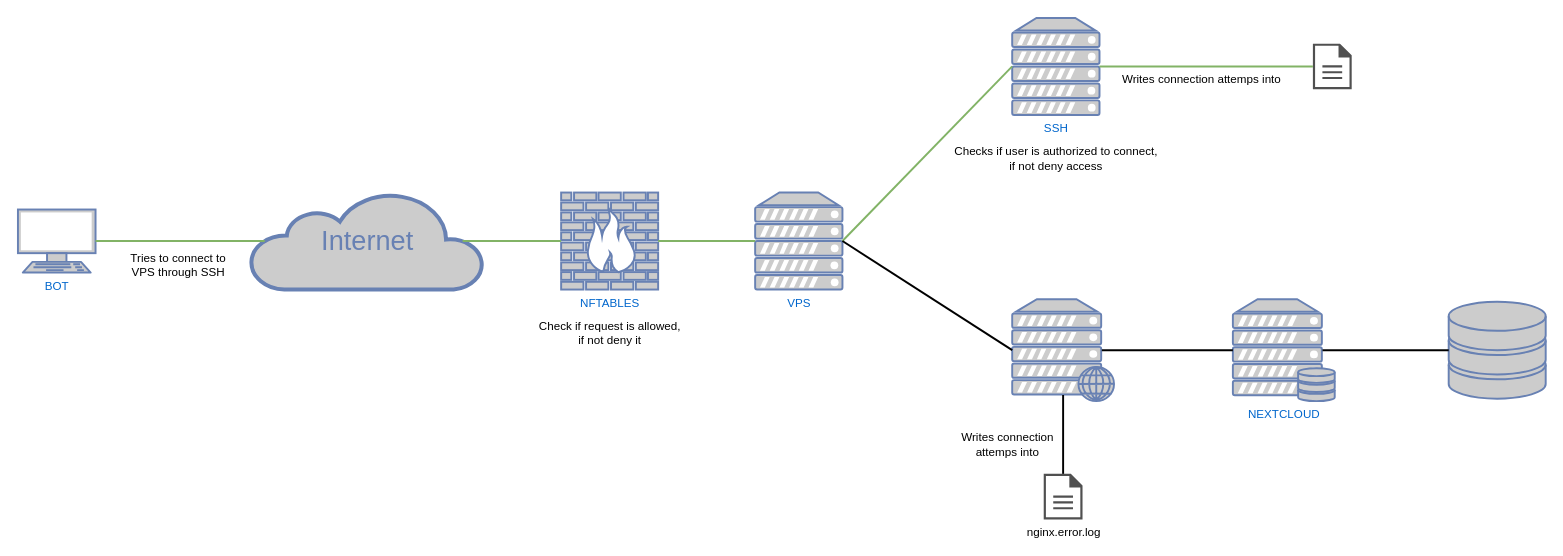
This 1563x556 diagram has some shape labels left out. The centre of each missing label's shape, as x and y in pixels:
"MARIADB" goes at [1496,349].
"NGINX" goes at [1063,350].
"secure.log" goes at [1331,66].
